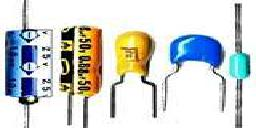Electrolytic-Capacitor: (3, 2, 58, 128), (161, 33, 229, 128), (59, 21, 105, 128), (109, 30, 157, 128), (229, 9, 253, 121)
